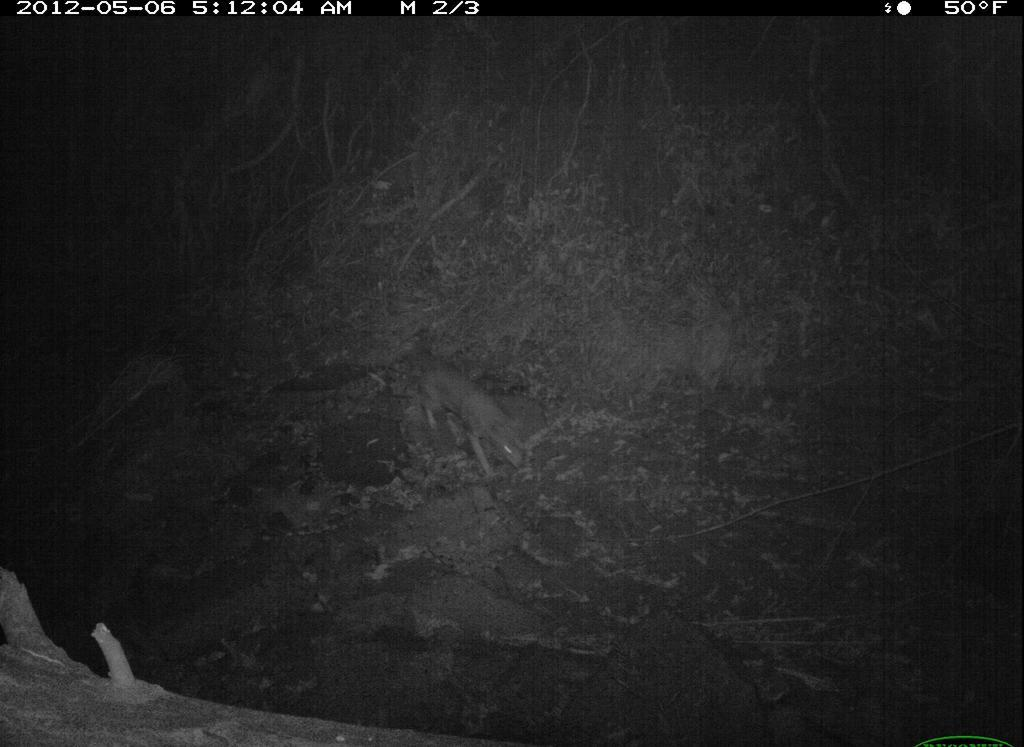coyote: (377, 338, 548, 492)
